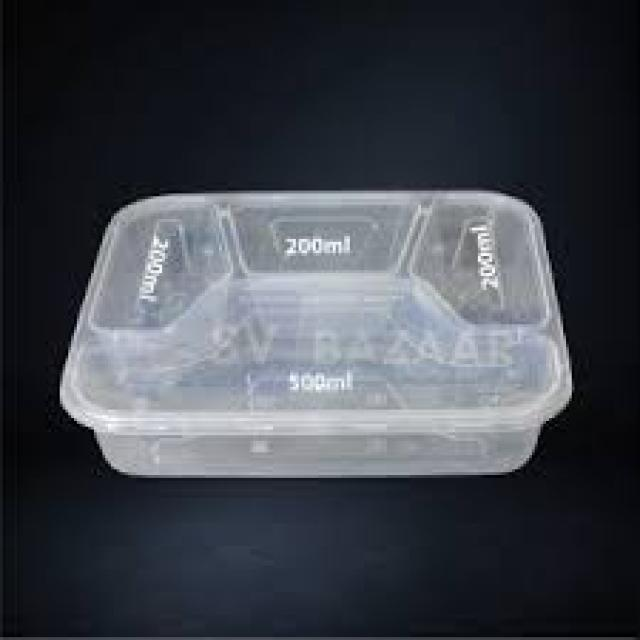disposable: (80, 165, 580, 506)
